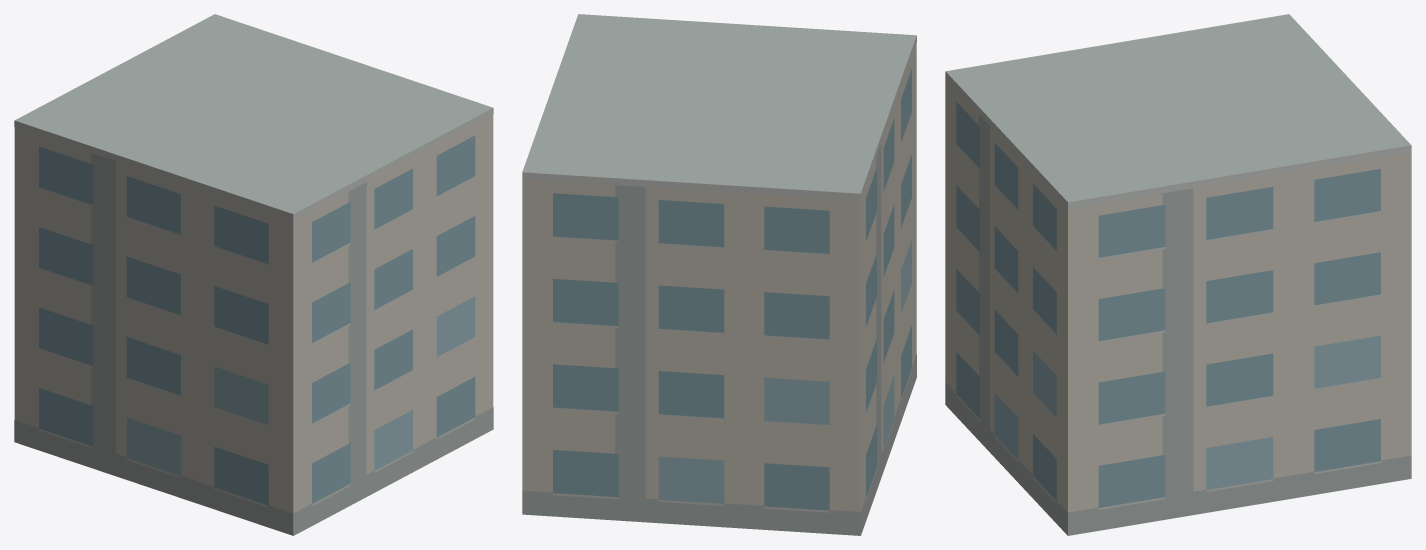
File: residential-736ee67f-133d-4e5c-8ee6-db4e88e727e3.glb
The picture shows the model from 3 angles, left to right: view 1: azimuth 30°, elevation 25°; view 2: azimuth 150°, elevation 25°; view 3: azimuth 270°, elevation 25°; orthographic projection. The views are drawn at different scales.
Parts seen in each view (by area): view 1: residential-736ee67f-133d-4e5c-8ee6-db4e88e727e3.tmp; view 2: residential-736ee67f-133d-4e5c-8ee6-db4e88e727e3.tmp; view 3: residential-736ee67f-133d-4e5c-8ee6-db4e88e727e3.tmp.
Boxes of the visible parts, x1=… form: residential-736ee67f-133d-4e5c-8ee6-db4e88e727e3.tmp: x1=14, y1=14, x2=493, y2=535; residential-736ee67f-133d-4e5c-8ee6-db4e88e727e3.tmp: x1=522, y1=14, x2=916, y2=535; residential-736ee67f-133d-4e5c-8ee6-db4e88e727e3.tmp: x1=945, y1=14, x2=1411, y2=535.
Bounding box in the file's own units: 14.54 × 12 × 15.21.
